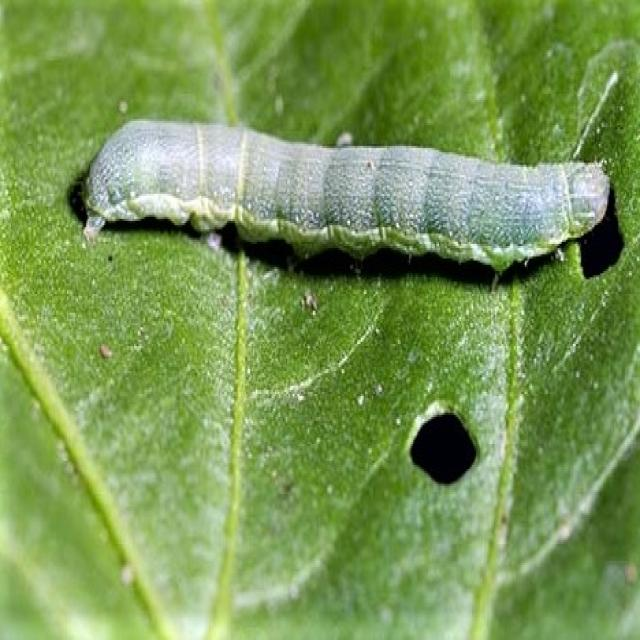armyworm: (79, 115, 610, 275)
